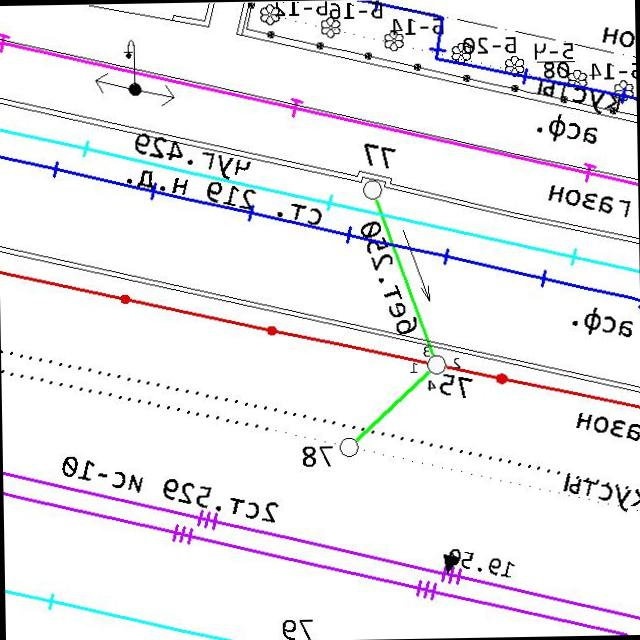asphalt: (569, 302, 635, 343), (534, 110, 600, 148)
bushes: (450, 40, 474, 66), (612, 78, 634, 104), (320, 15, 342, 40), (504, 54, 526, 78), (258, 2, 280, 26), (383, 28, 404, 52), (567, 68, 588, 91)
mark: (441, 552, 462, 574)
well: (337, 435, 360, 458), (361, 178, 384, 200), (426, 354, 448, 376)
